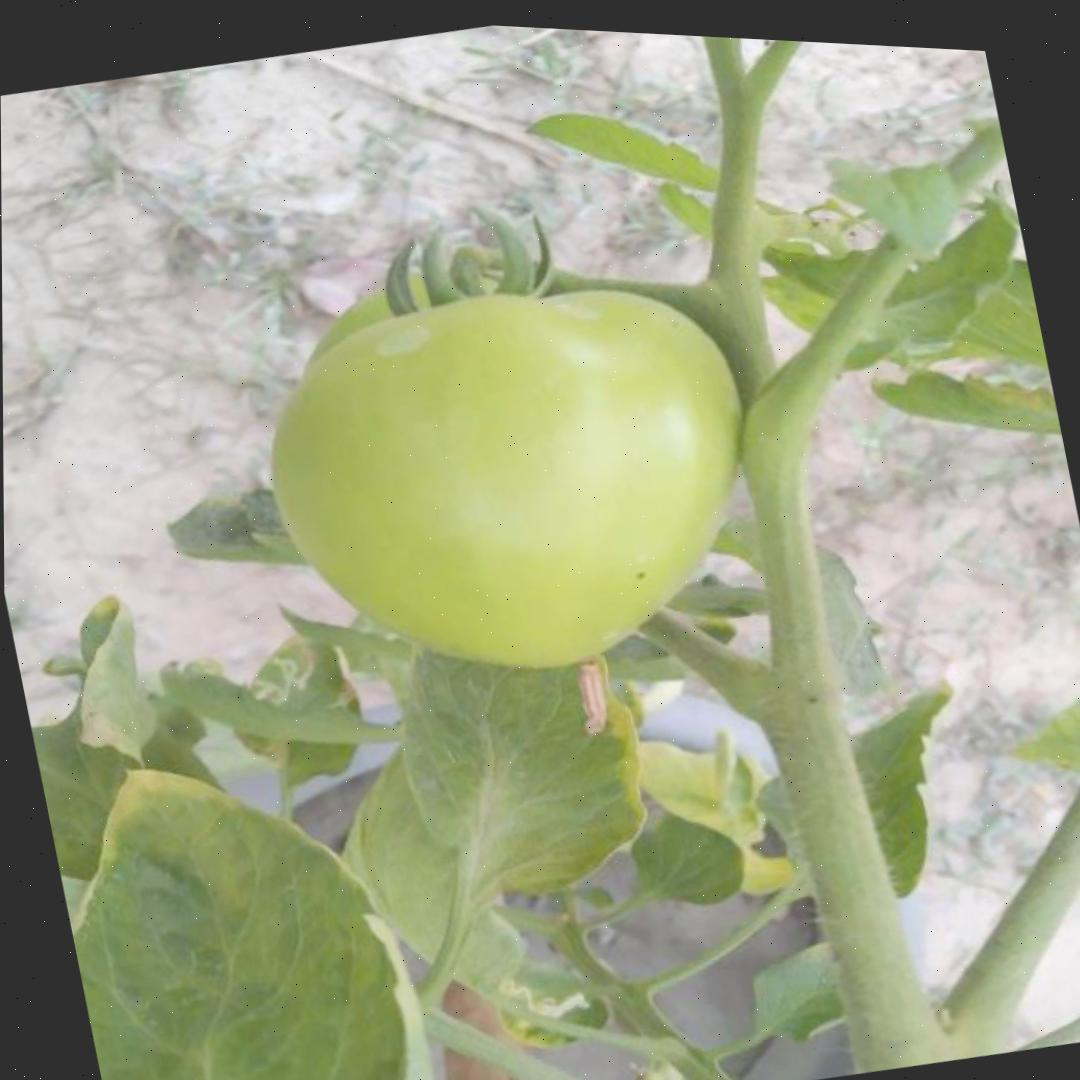mentah: (236, 232, 792, 731)
